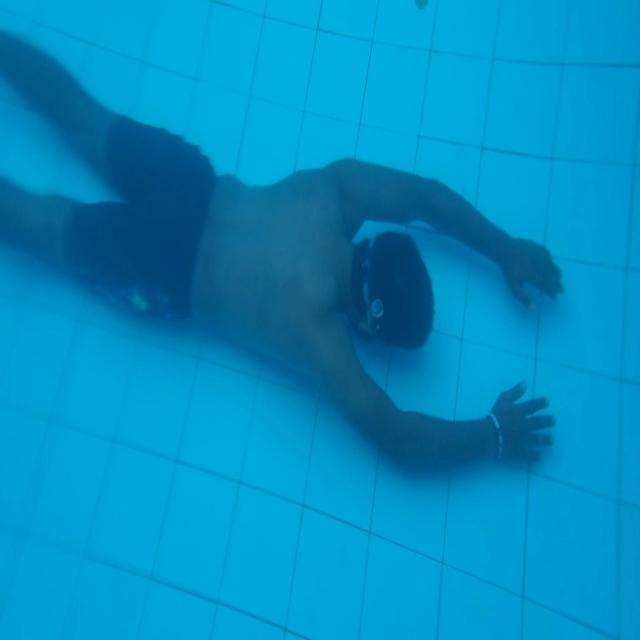Drowning: (0, 27, 566, 479)
